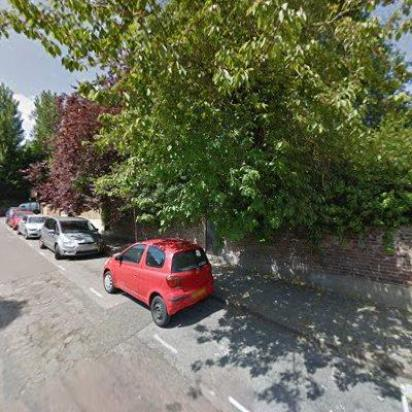stationary-car-onstreet: (104, 235, 214, 327), (39, 214, 105, 258), (16, 214, 52, 240), (6, 206, 34, 230)
